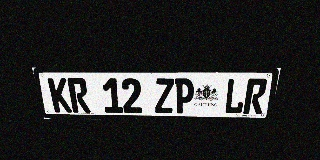1: (101, 78, 123, 113)
2: (121, 78, 142, 113)
K: (47, 78, 72, 112)
L: (223, 78, 247, 114)
P: (174, 78, 194, 113)
R: (243, 78, 268, 114), (67, 78, 91, 113)
Z: (155, 78, 174, 113)
